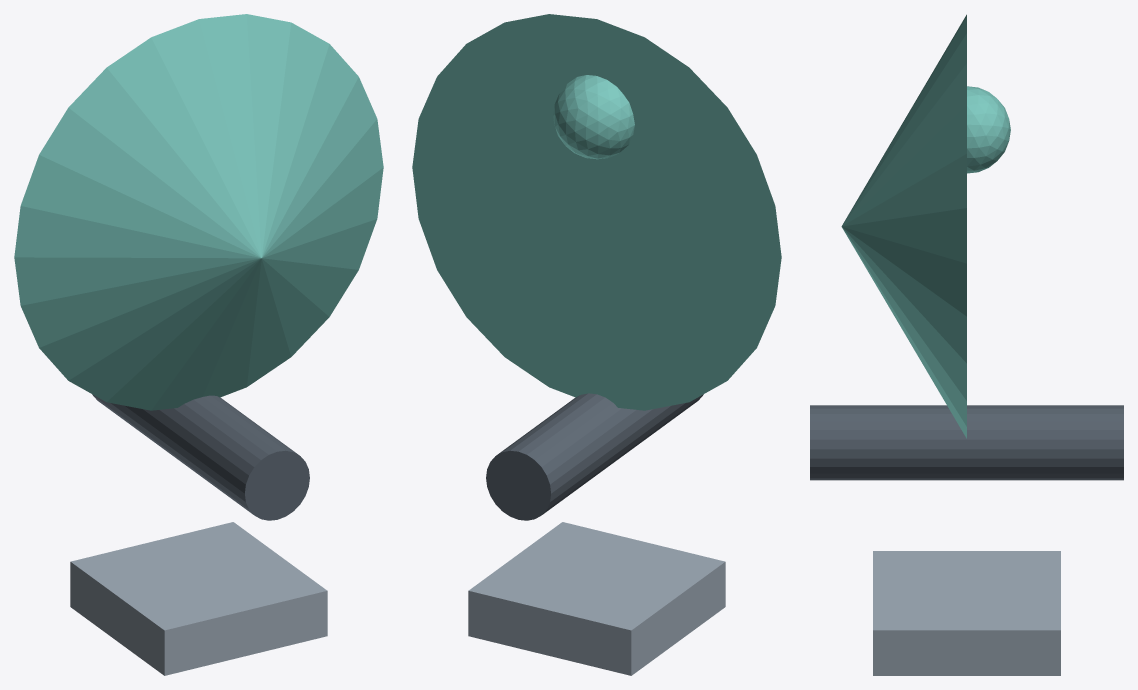
File: data_harvester.glb
The picture shows the model from 3 angles, left to right: view 1: azimuth 30°, elevation 25°; view 2: azimuth 150°, elevation 25°; view 3: azimuth 270°, elevation 25°; orthographic projection.
Visible parts, largest first — view 1: geometry_1, geometry_3, geometry_0; view 2: geometry_1, geometry_3, geometry_0, geometry_2; view 3: geometry_1, geometry_0, geometry_3, geometry_2.
Boxes of the visible parts, left/top/right/bottom form: geometry_1: left=14, top=14, right=383, bottom=410; geometry_3: left=70, top=522, right=327, bottom=675; geometry_0: left=92, top=394, right=309, bottom=520; geometry_1: left=412, top=14, right=781, bottom=410; geometry_3: left=468, top=522, right=725, bottom=675; geometry_0: left=486, top=393, right=703, bottom=520; geometry_2: left=553, top=75, right=634, bottom=159; geometry_1: left=841, top=14, right=966, bottom=438; geometry_0: left=810, top=405, right=1123, bottom=480; geometry_3: left=873, top=551, right=1060, bottom=675; geometry_2: left=967, top=86, right=1010, bottom=173.
Bounding box in the file's own units: 0.68 × 1.06 × 0.5.
